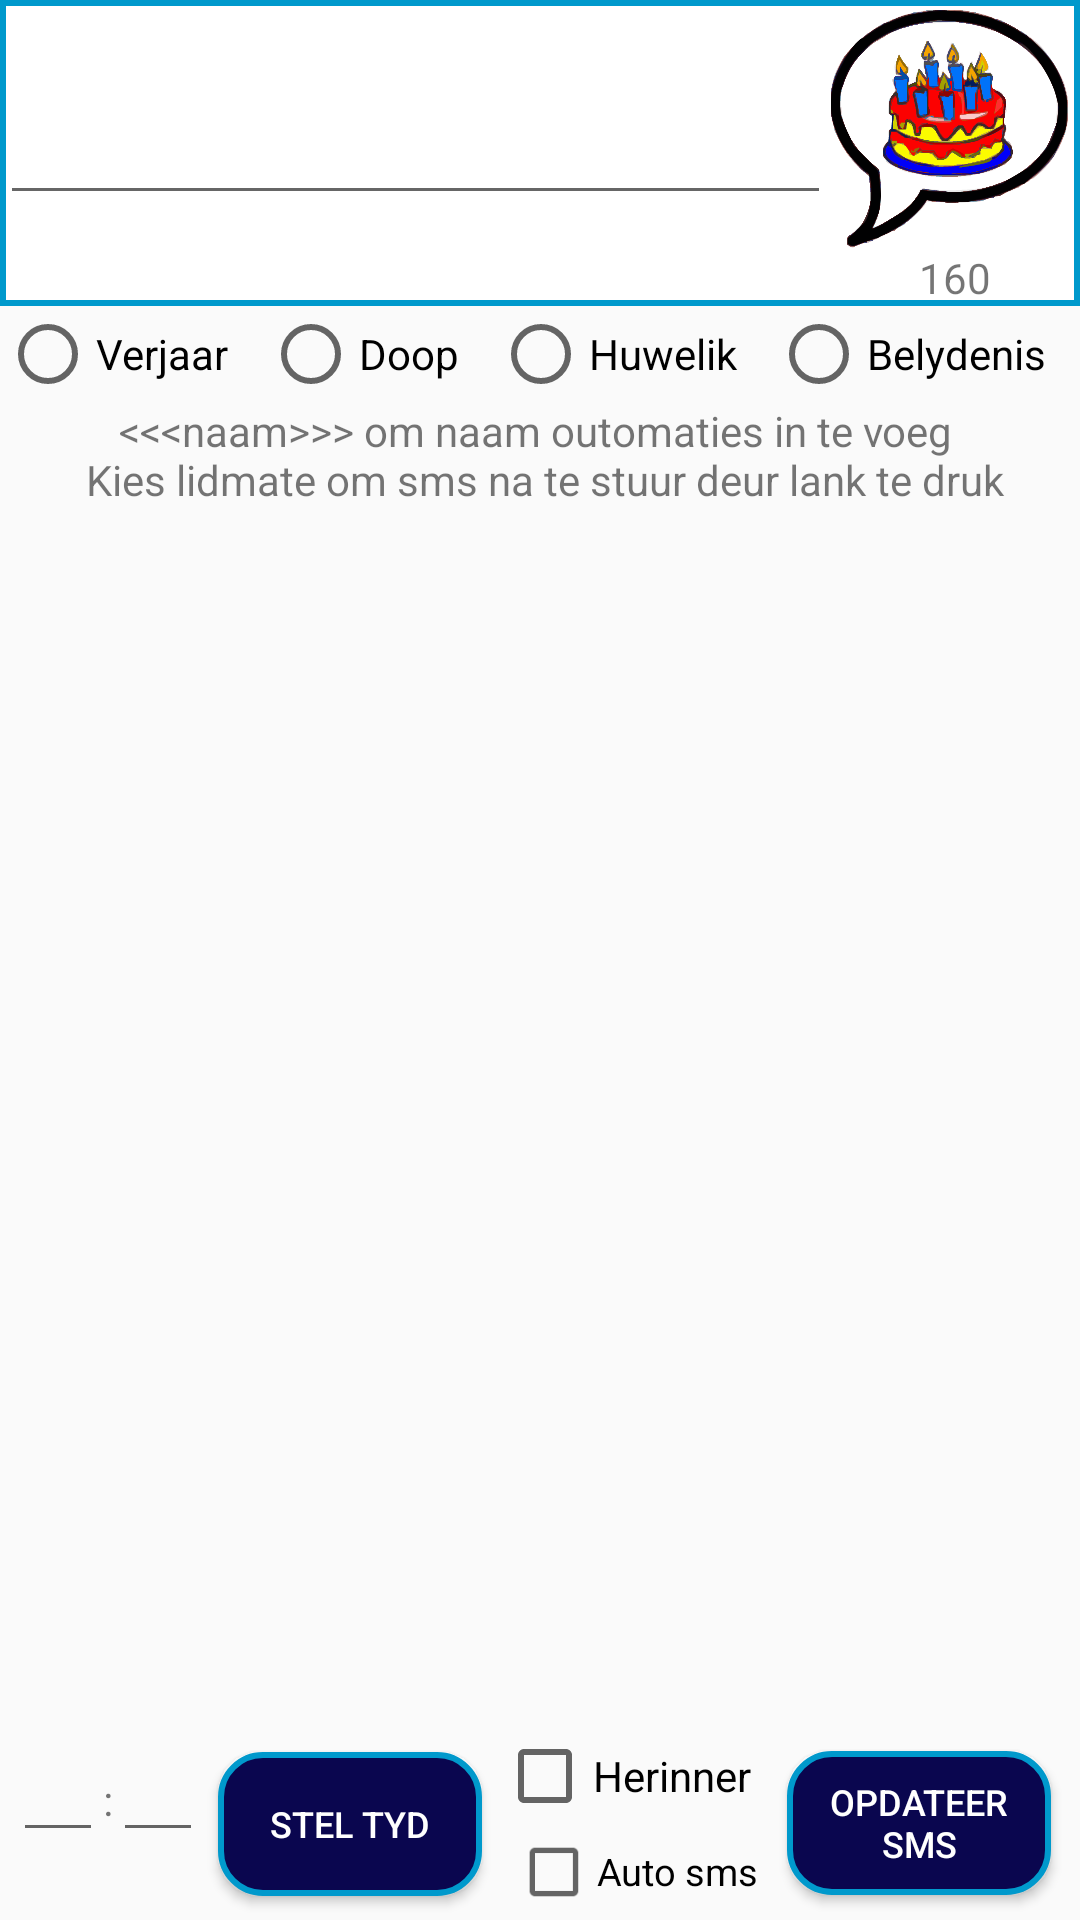

Named icons in this screenshot (1080 x 1920) and their bounding boxes, {"x1": x1, "y1": y1, "x2": x2, "y2": y2}:
bdaysms: {"x1": 831, "y1": 10, "x2": 1068, "y2": 247}
